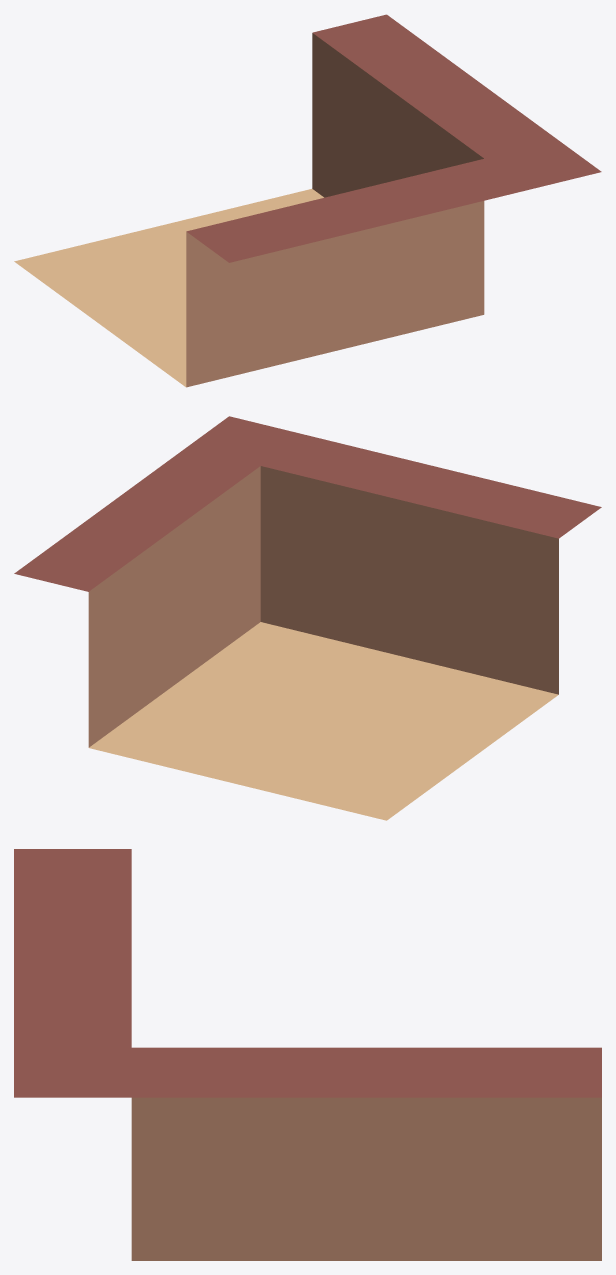
File: SM_Tile_L.fbx
3 views of the same model, one above another, from view 1: azimuth 30°, elevation 25°; view 2: azimuth 150°, elevation 25°; view 3: azimuth 270°, elevation 25° (orthographic). The views are drawn at different scales.
Visible parts, largest first — view 1: SM_Tile_L; view 2: SM_Tile_L; view 3: SM_Tile_L.
Boxes of the visible parts, x1=… form: SM_Tile_L: x1=14, y1=14, x2=601, y2=387; SM_Tile_L: x1=14, y1=416, x2=601, y2=820; SM_Tile_L: x1=14, y1=849, x2=601, y2=1260.
Bounding box in the file's own units: 500 × 200 × 500.
